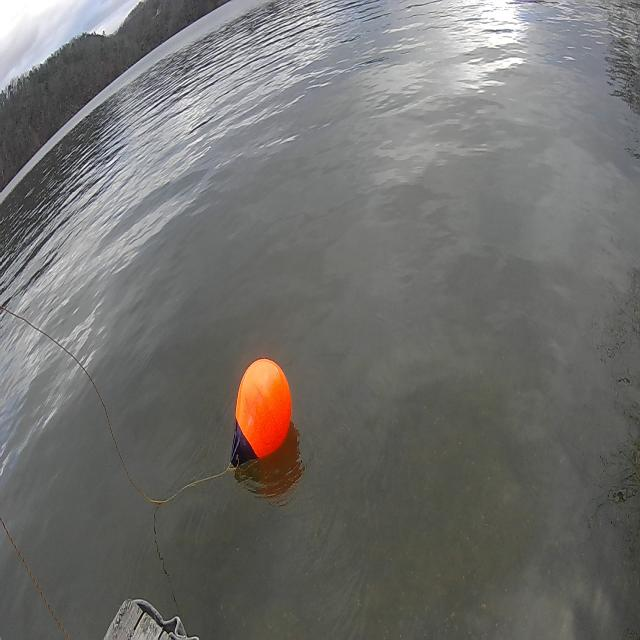Buoy: (232, 350, 294, 469)
